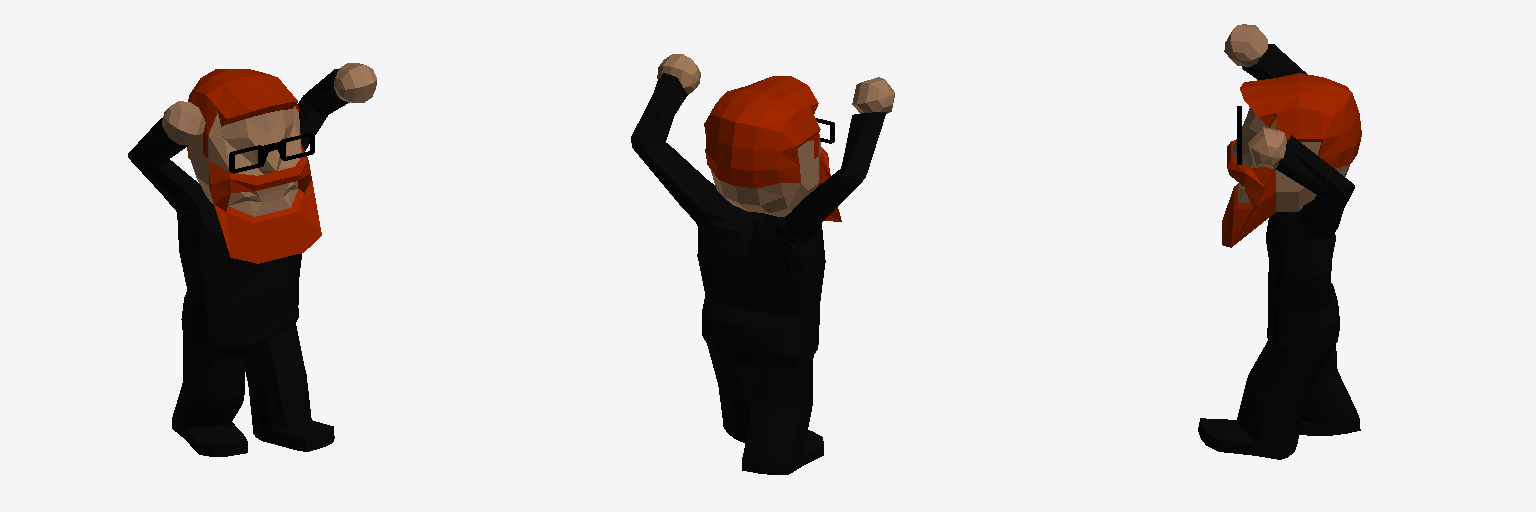
Rendered from Brendo.obj.
3 renders of one model, left to right at view 1: azimuth 30°, elevation 25°; view 2: azimuth 150°, elevation 25°; view 3: azimuth 270°, elevation 25°, orthographic.
Visible parts, largest first — view 1: Dude_Cube; view 2: Dude_Cube; view 3: Dude_Cube.
Boxes of the visible parts, box(x1,y1,x2,y2) form: Dude_Cube: box(128, 63, 376, 456); Dude_Cube: box(631, 54, 894, 474); Dude_Cube: box(1198, 24, 1361, 459).
Bounding box in the file's own units: 4.07 × 6.36 × 2.55.